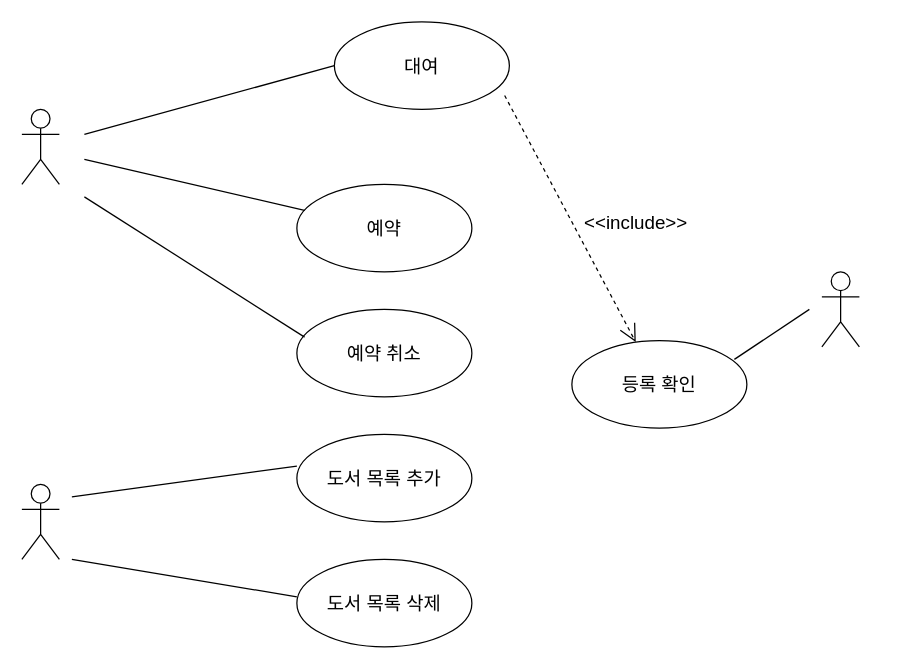
Image size: 908x669. Some labels were removed from this diagram. Here are the shapes that lost their labels. From the top down, the box of each, then its label:
(21, 108, 59, 184): 고객
(821, 271, 859, 347): 관리 시스템
(21, 483, 59, 559): 사서
